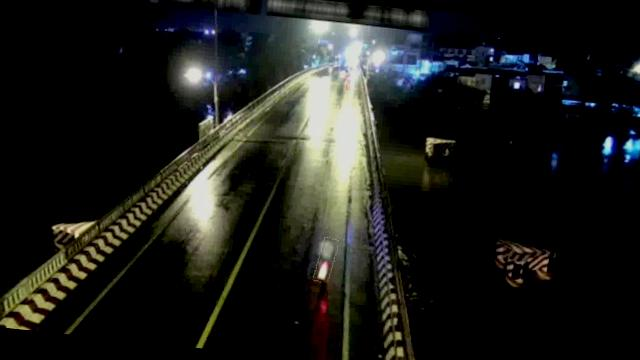Bike: (314, 236, 338, 284)
